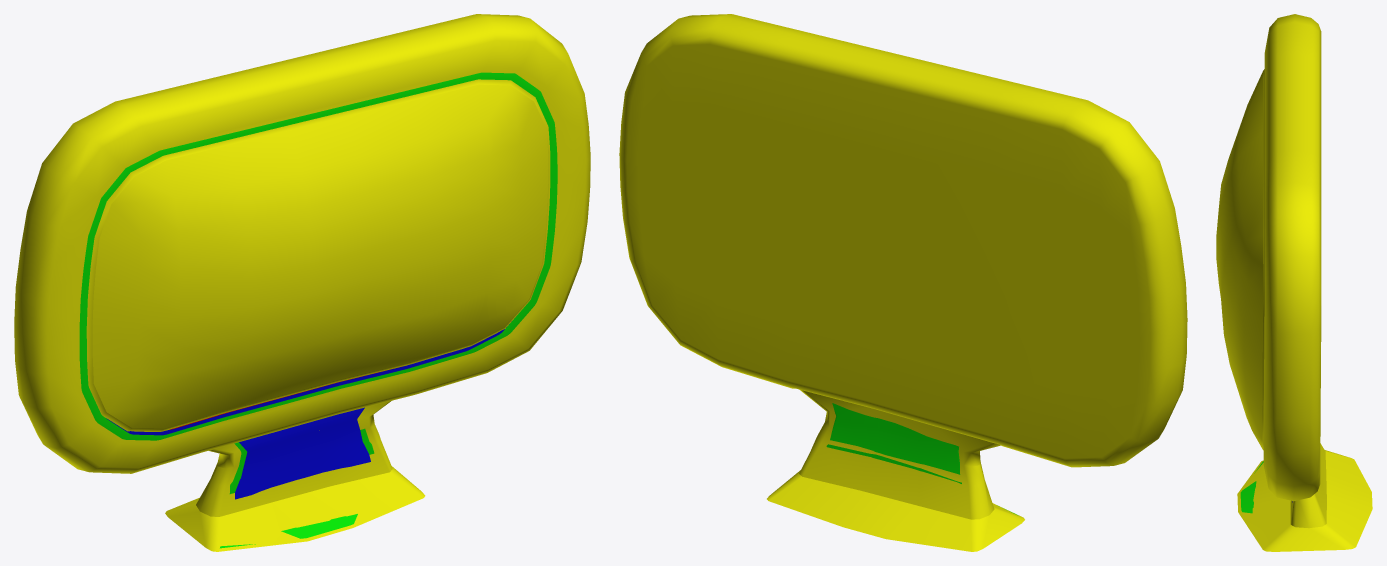
Rendered from FlatscreenTV.fbx.
3 views of the same model, side by side, from view 1: azimuth 30°, elevation 25°; view 2: azimuth 150°, elevation 25°; view 3: azimuth 270°, elevation 25° (orthographic). The views are drawn at different scales.
Parts seen in each view (by area): view 1: FlatscreenTV_Outline4, FlatscreenTV_Outline3, FlatscreenTV_Outline2; view 2: FlatscreenTV_Outline4, FlatscreenTV_Outline3; view 3: FlatscreenTV_Outline4, FlatscreenTV_Outline3.
Boxes of the visible parts, <box> form: FlatscreenTV_Outline4: <box>14,14,590,551</box>; FlatscreenTV_Outline3: <box>79,72,557,548</box>; FlatscreenTV_Outline2: <box>106,321,511,499</box>; FlatscreenTV_Outline4: <box>619,14,1187,551</box>; FlatscreenTV_Outline3: <box>826,403,1018,515</box>; FlatscreenTV_Outline4: <box>1216,14,1372,551</box>; FlatscreenTV_Outline3: <box>1240,461,1263,513</box>.
Size of the model in its own units: 251 by 192 by 66.8.
